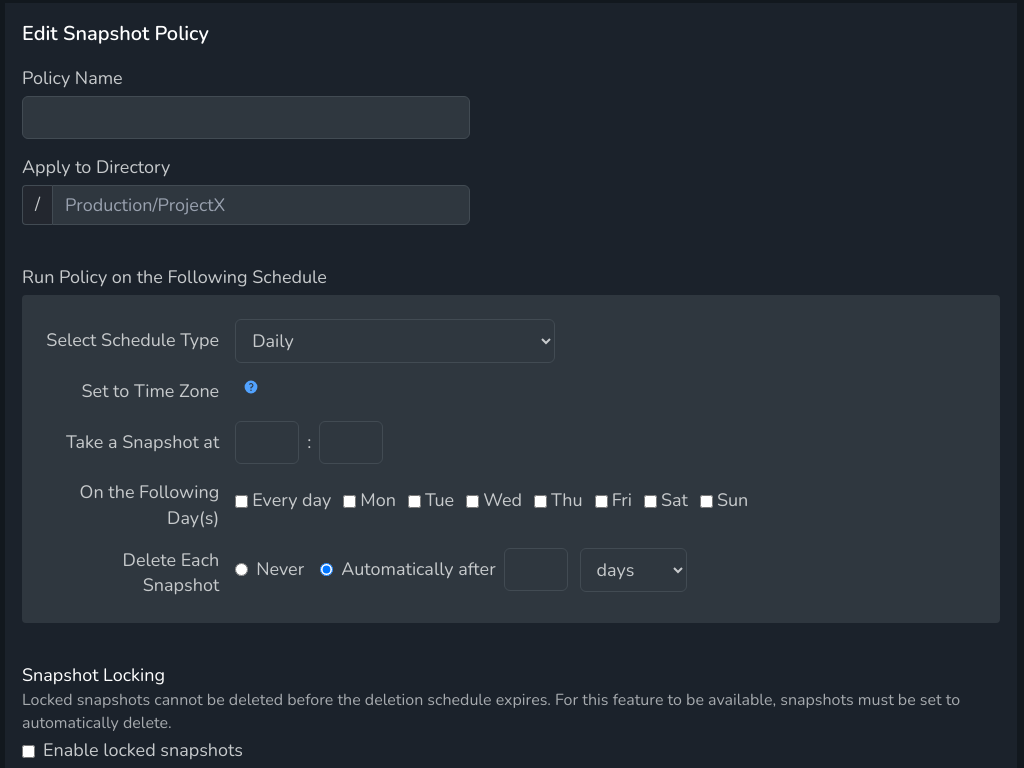
Scenario: SnapshotPolicyForm › handles "Every day" checkbox logic
Click the checkbox labelled "Every day" at x=242, y=501, box [235,495,248,508]
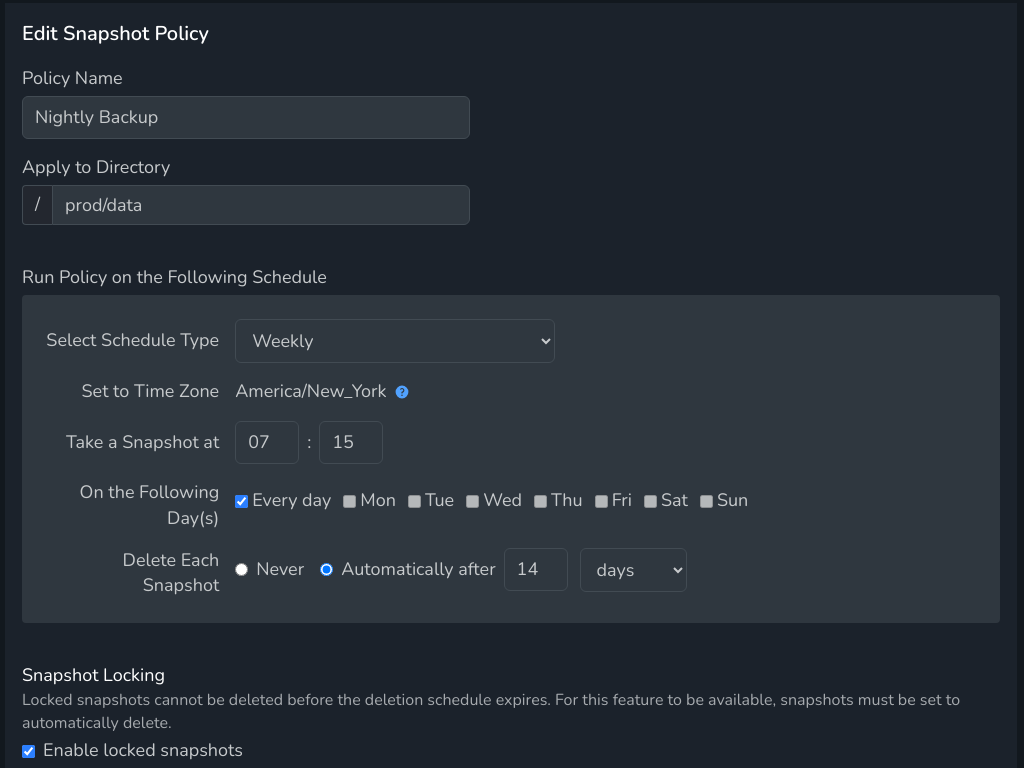
Expected: the checkbox labelled "Every day" is checked
Expected: the checkbox labelled "Mon" is disabled, [343,495,356,508]
Click the checkbox labelled "Every day" at x=242, y=501, box [235,495,248,508]
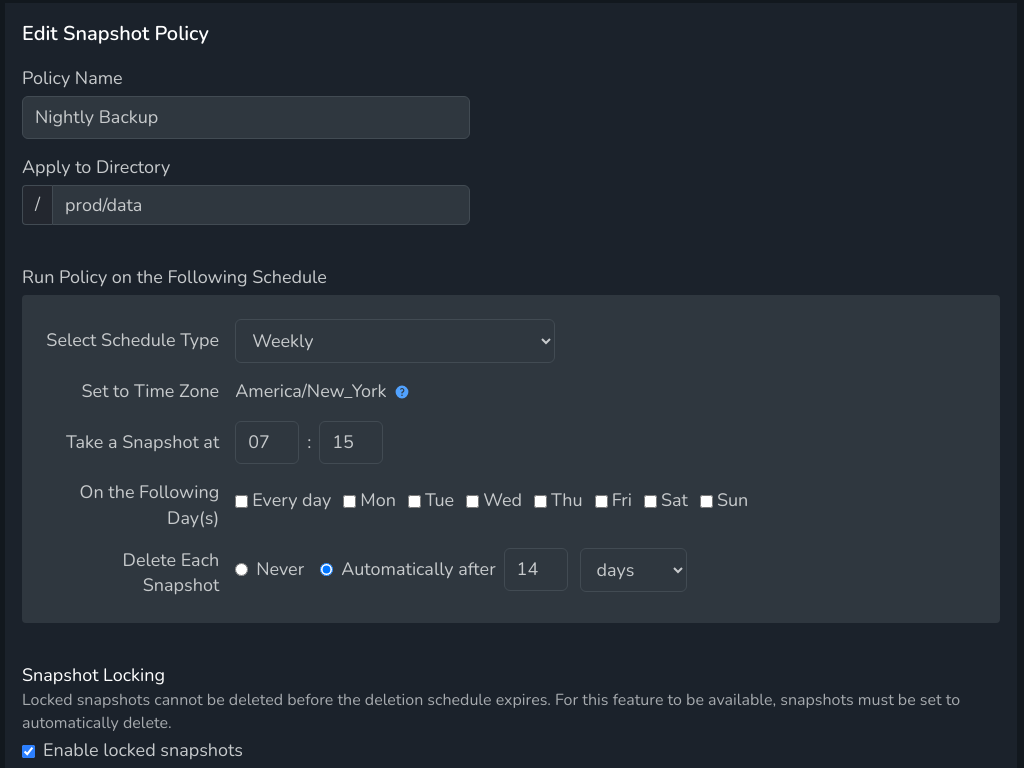
Expected: the checkbox labelled "Every day" is not checked, [235,495,248,508]
Expected: the checkbox labelled "Mon" is enabled, [343,495,356,508]
